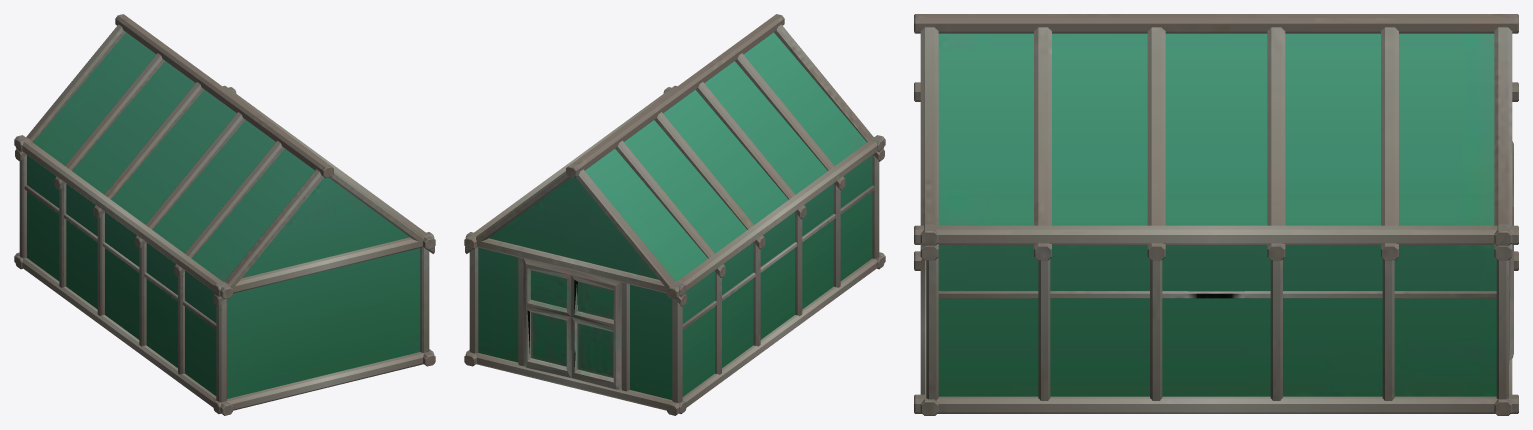
Rendered from greenhouse_small.glb.
3 views of the same model, side by side, from view 1: azimuth 30°, elevation 25°; view 2: azimuth 150°, elevation 25°; view 3: azimuth 270°, elevation 25° (orthographic). The views are drawn at different scales.
Parts seen in each view (by area): view 1: greenhouse_small; view 2: greenhouse_small; view 3: greenhouse_small.
Part boxes in pixels (bbox=[...]): greenhouse_small: bbox=[14, 14, 435, 415]; greenhouse_small: bbox=[464, 14, 885, 415]; greenhouse_small: bbox=[914, 14, 1518, 415].
Bounding box in the file's own units: 2.63 × 2.6 × 4.4.
1 material, 1 textured.
